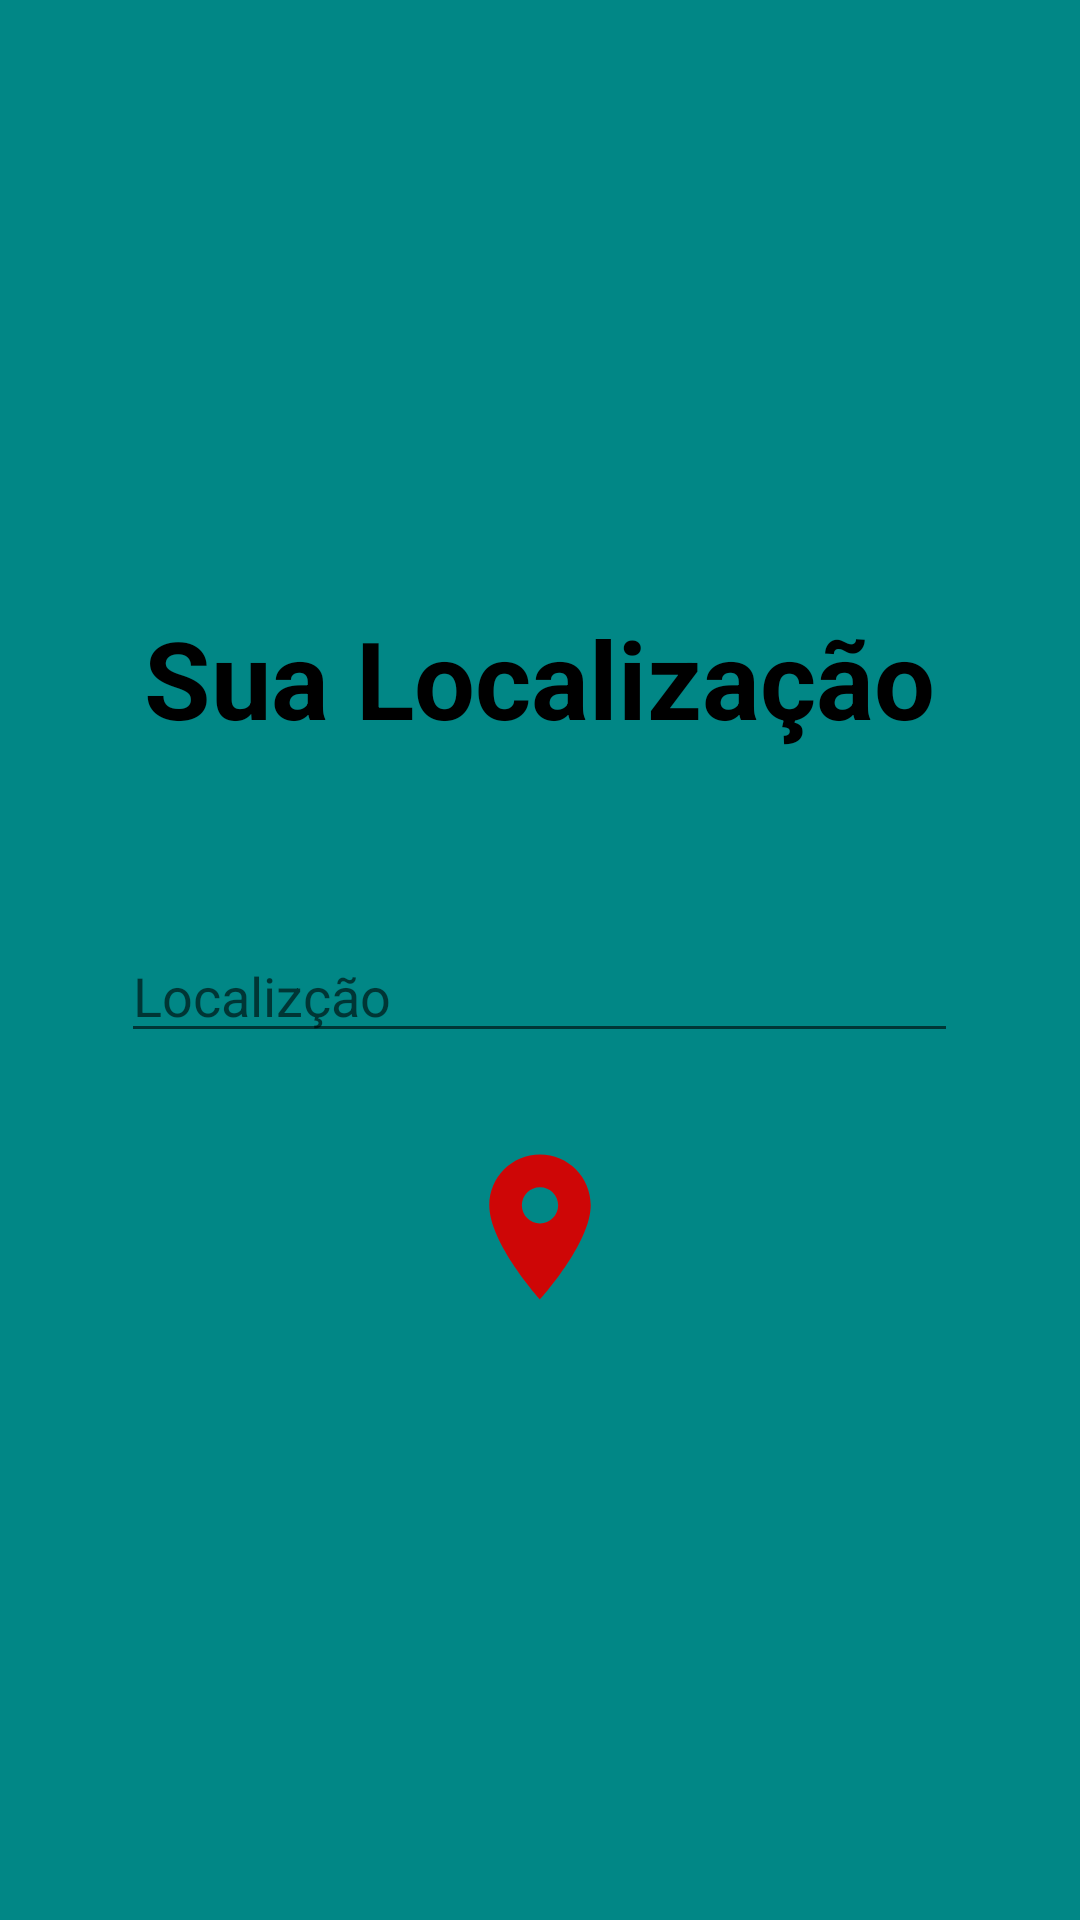

Screen size 1080 × 1920. Icon name, then its center in pixels as (x,y):
localizacao: (540,1227)
